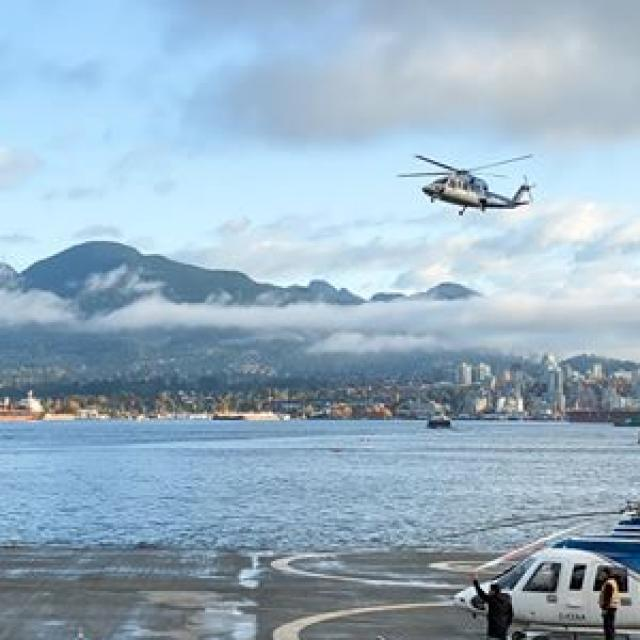helicopter: (460, 479, 639, 640), (387, 119, 558, 245)
